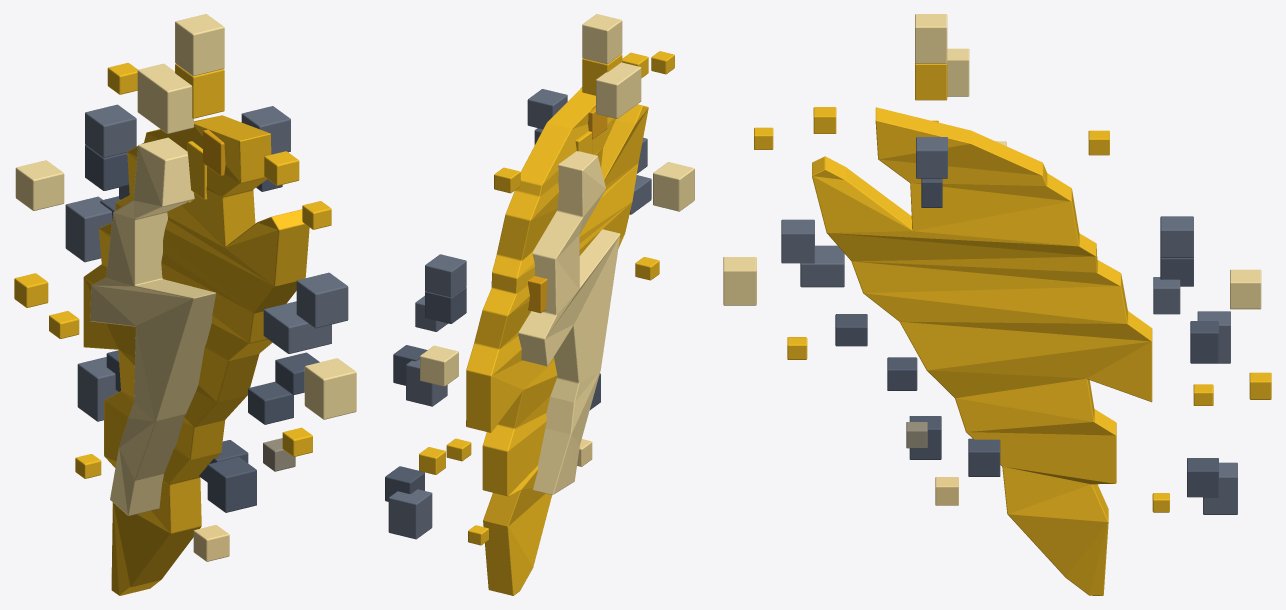
Rendered from SM_Blender_Storm.glb.
3 renders of one model, left to right at view 1: azimuth 30°, elevation 25°; view 2: azimuth 150°, elevation 25°; view 3: azimuth 270°, elevation 25°, orthographic. The views are drawn at different scales.
Parts seen in each view (by area): view 1: SM_Blender_Storm; view 2: SM_Blender_Storm; view 3: SM_Blender_Storm.
Boxes of the visible parts, bbox=[...] form: SM_Blender_Storm: bbox=[14, 14, 356, 595]; SM_Blender_Storm: bbox=[385, 14, 694, 595]; SM_Blender_Storm: bbox=[723, 14, 1271, 595].
Size of the model in its own units: 0.3454 by 1.46 by 1.3.
2 materials, 2 textured.
